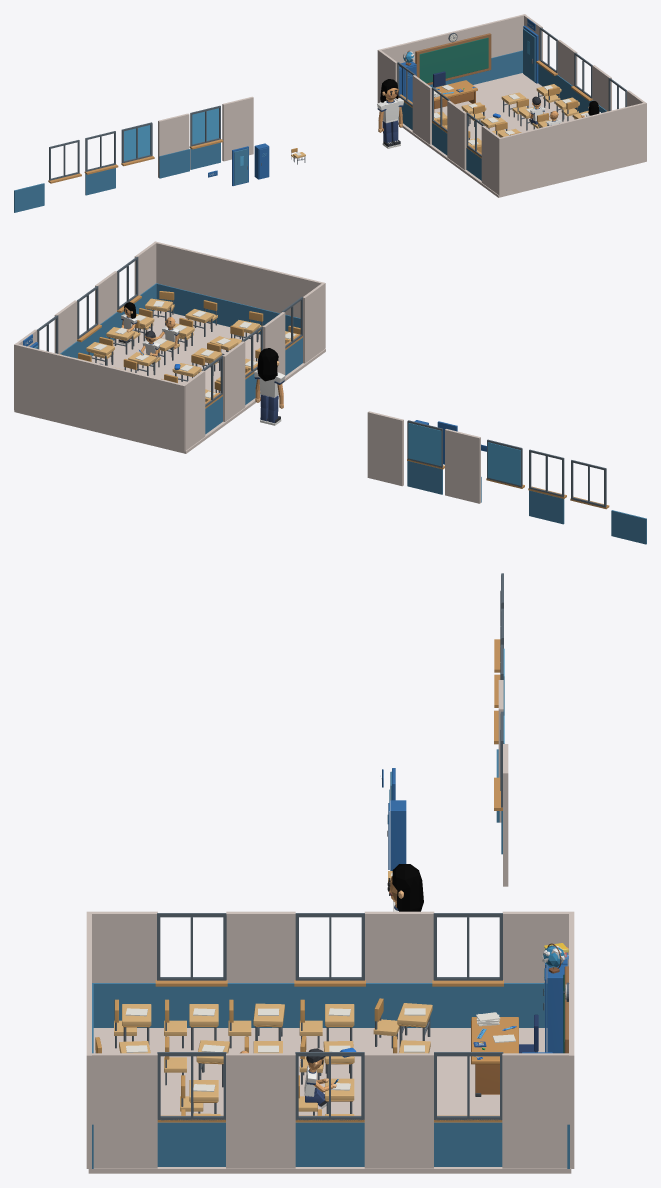
Rendered from Classroom.fbx.
The picture shows the model from 3 angles, top to bottom: view 1: azimuth 30°, elevation 25°; view 2: azimuth 150°, elevation 25°; view 3: azimuth 270°, elevation 25°; orthographic projection. The views are drawn at different scales.
Visible parts, largest first — view 1: Faixa azul do fundo.006, Faixa azul do fundo.004, Faixa azul do fundo.003, Parede do fundo.001, Faixa azul do fundo.005, Base da lousa, Faixa azul do fundo.001, Montante vertical.002, Parede do fundo.002, Montante vertical.006, Montante vertical.003, Marco da porta.001 (+7 smaller); view 2: Faixa azul do fundo.003, Faixa azul do fundo.006, Faixa azul do fundo.004, Faixa azul do fundo.005, Parede do fundo.001, Parede do fundo.002, Faixa azul do fundo.001, Montante vertical.002, Montante vertical.003, Montante vertical.006, Faixa azul do fundo.002, Cabelo.004 (+2 smaller); view 3: Faixa azul do fundo.005, Faixa azul do fundo.004, Parede do fundo.001, Sapata da mesa.003, Faixa azul do fundo.006, Armario 1.002, Faixa azul do fundo.003, Armario 1, Cabelo.004, Parede do fundo.002, Mesa direita.010.
Part boxes in pixels (x1,y1,x2,y2): Faixa azul do fundo.006: (498, 103, 646, 195); Faixa azul do fundo.004: (378, 50, 500, 194); Faixa azul do fundo.003: (377, 14, 525, 102); Parede do fundo.001: (378, 73, 646, 197); Faixa azul do fundo.005: (524, 15, 645, 112); Base da lousa: (415, 33, 491, 84); Faixa azul do fundo.001: (158, 113, 189, 178); Montante vertical.002: (189, 105, 223, 169); Parede do fundo.002: (222, 96, 253, 161); Montante vertical.006: (121, 122, 154, 166); Montante vertical.003: (84, 131, 118, 195); Marco da porta.001: (523, 25, 538, 83); Faixa azul do fundo.003: (14, 344, 185, 451); Faixa azul do fundo.006: (154, 241, 325, 348); Faixa azul do fundo.004: (183, 282, 324, 450); Faixa azul do fundo.005: (15, 242, 156, 358); Parede do fundo.001: (14, 310, 325, 453); Parede do fundo.002: (367, 411, 403, 486); Faixa azul do fundo.001: (445, 429, 481, 503); Montante vertical.002: (407, 420, 444, 494); Montante vertical.003: (528, 449, 566, 524); Montante vertical.006: (486, 439, 524, 488); Faixa azul do fundo.002: (611, 510, 646, 544); Cabelo.004: (257, 348, 278, 381); Faixa azul do fundo.005: (88, 1052, 570, 1168); Faixa azul do fundo.004: (88, 911, 568, 1027); Parede do fundo.001: (88, 1028, 571, 1173); Sapata da mesa.003: (471, 1017, 518, 1096); Faixa azul do fundo.006: (86, 911, 93, 1168); Armario 1.002: (543, 964, 567, 1053); Faixa azul do fundo.003: (567, 911, 574, 1168); Armario 1: (387, 800, 406, 870); Cabelo.004: (392, 864, 423, 911); Parede do fundo.002: (503, 744, 508, 886); Mesa direita.010: (397, 1003, 432, 1047).
Size of the model in its own units: 5278 by 646 by 2106.
